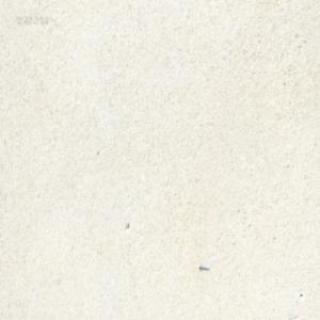Nailtrack_idkeyframe: (198, 263, 208, 270)
